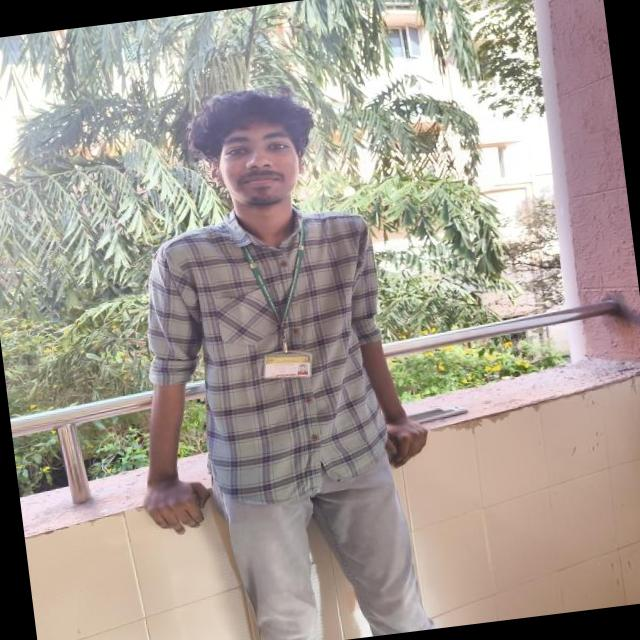id_card: (242, 215, 328, 386)
